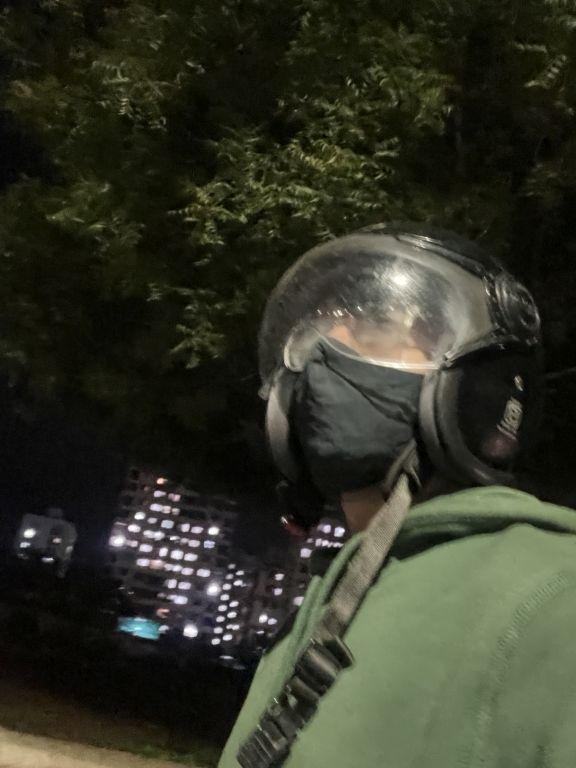helmet: (239, 205, 553, 541)
